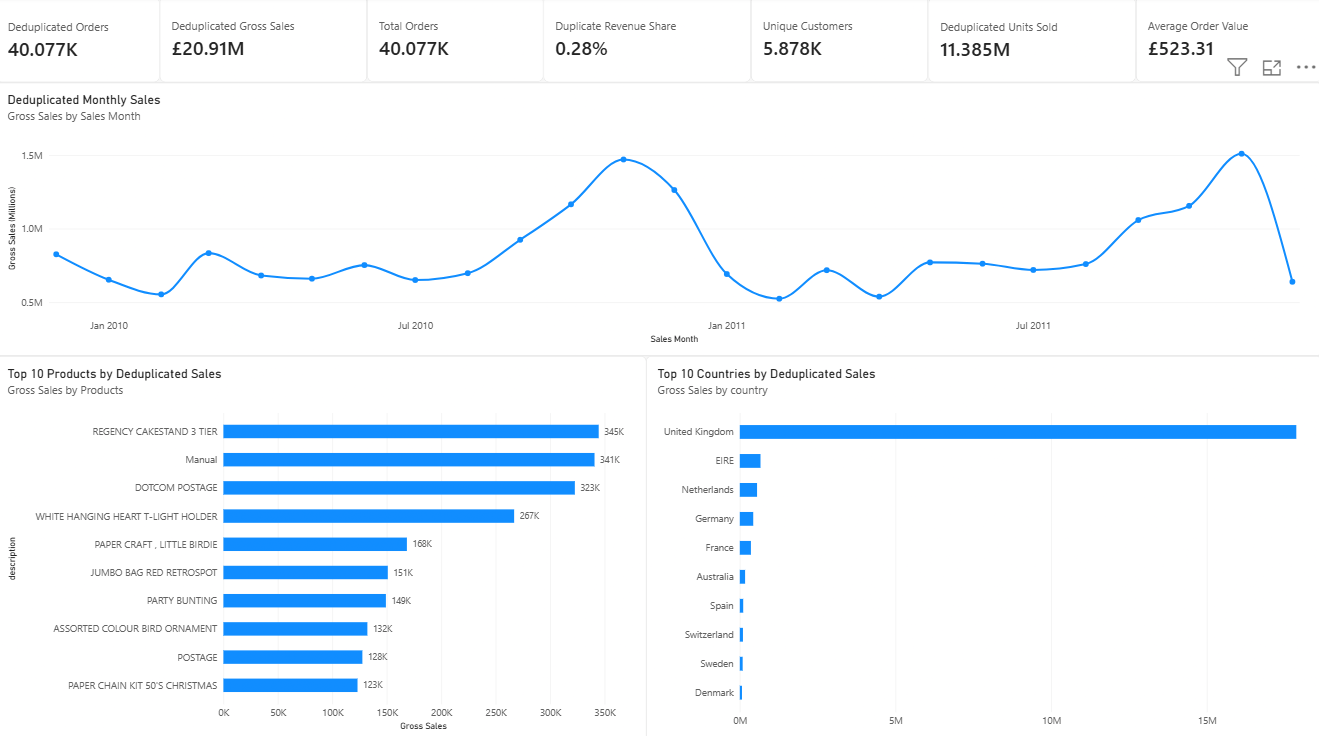

What the dashboard file says about the page in this screenshot:
{"tool":"powerbi","page":{"name":"Executive Overview","canvas":[1920,1080],"ordinal":0},"visuals":[{"type":"cardVisual","fields":{"Data":["Transactions.Unique Customers"]},"box":[1093,0,257,124.9],"z":1000},{"type":"cardVisual","fields":{"Data":["Transactions.Total Orders"]},"box":[537.5,0,255.2,124.9],"z":2000},{"type":"cardVisual","fields":{"Data":["Transactions.Average Order Value"]},"box":[1650.4,0,269.6,124.9],"z":3000},{"type":"lineChart","title":"Deduplicated Monthly Sales","fields":{"Category":["Transactions.Sales Month"],"Y":["Transactions.Gross Sales"]},"box":[0,124.9,1920.1,396.3],"z":4000},{"type":"clusteredBarChart","title":"Top 10 Countries by Deduplicated Sales","fields":{"Category":["Transactions.country"],"Y":["Transactions.Gross Sales"]},"box":[941.7,521,978.5,559.4],"z":5000},{"type":"clusteredBarChart","title":"Top 10 Products by Deduplicated Sales","fields":{"Category":["Transactions.description"],"Y":["Transactions.Gross Sales"]},"box":[0,521,941.7,559.4],"z":6000},{"type":"cardVisual","fields":{"Data":["Transactions.Deduplicated Gross Sales"]},"box":[236.7,0,300.5,125.6],"z":7000},{"type":"cardVisual","fields":{"Data":["Transactions.Duplicate Revenue Share"]},"box":[792.5,0,300.5,125.6],"z":8000},{"type":"cardVisual","fields":{"Data":["Cohort_Retention.Deduplicated Orders"]},"box":[0,1.8,237.1,123.1],"z":10000},{"type":"cardVisual","fields":{"Data":["Cohort_Retention.Deduplicated Units Sold"]},"box":[1350,1.8,300.4,123.1],"z":11000}]}

Visuals, with their boxes in screenshot pixels (x1, y1, x2, y2), scaled from the page's 1920x1080 canvas onto the 1319x736 screenshot:
cardVisual - Transactions.Unique Customers: <bbox>751, 0, 927, 85</bbox>
cardVisual - Transactions.Total Orders: <bbox>369, 0, 545, 85</bbox>
cardVisual - Transactions.Average Order Value: <bbox>1134, 0, 1318, 85</bbox>
"Deduplicated Monthly Sales" lineChart: <bbox>0, 85, 1318, 355</bbox>
"Top 10 Countries by Deduplicated Sales" clusteredBarChart: <bbox>647, 355, 1318, 735</bbox>
"Top 10 Products by Deduplicated Sales" clusteredBarChart: <bbox>0, 355, 647, 735</bbox>
cardVisual - Transactions.Deduplicated Gross Sales: <bbox>163, 0, 369, 86</bbox>
cardVisual - Transactions.Duplicate Revenue Share: <bbox>544, 0, 751, 86</bbox>
cardVisual - Cohort_Retention.Deduplicated Orders: <bbox>0, 1, 163, 85</bbox>
cardVisual - Cohort_Retention.Deduplicated Units Sold: <bbox>927, 1, 1134, 85</bbox>
